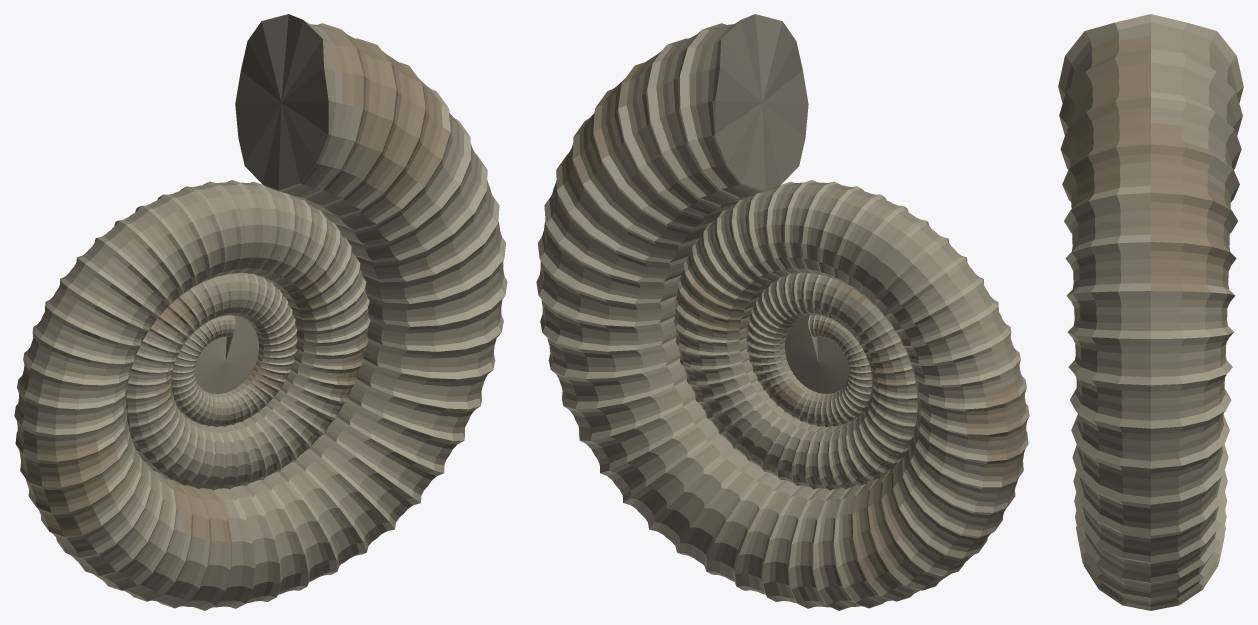
3 views of the same model, side by side, from view 1: azimuth 30°, elevation 25°; view 2: azimuth 150°, elevation 25°; view 3: azimuth 270°, elevation 25° (orthographic). The views are drawn at different scales.
Visible parts, largest first — view 1: Continuous_ribbed_coil_and_closed_fossil_fracture; view 2: Continuous_ribbed_coil_and_closed_fossil_fracture; view 3: Continuous_ribbed_coil_and_closed_fossil_fracture.
Part boxes in pixels (x1,y1,x2,y2): Continuous_ribbed_coil_and_closed_fossil_fracture: (14, 14, 507, 610); Continuous_ribbed_coil_and_closed_fossil_fracture: (536, 14, 1029, 610); Continuous_ribbed_coil_and_closed_fossil_fracture: (1058, 14, 1243, 610).
Size of the model in its own units: 0.0515 by 0.0584 by 0.0164.
